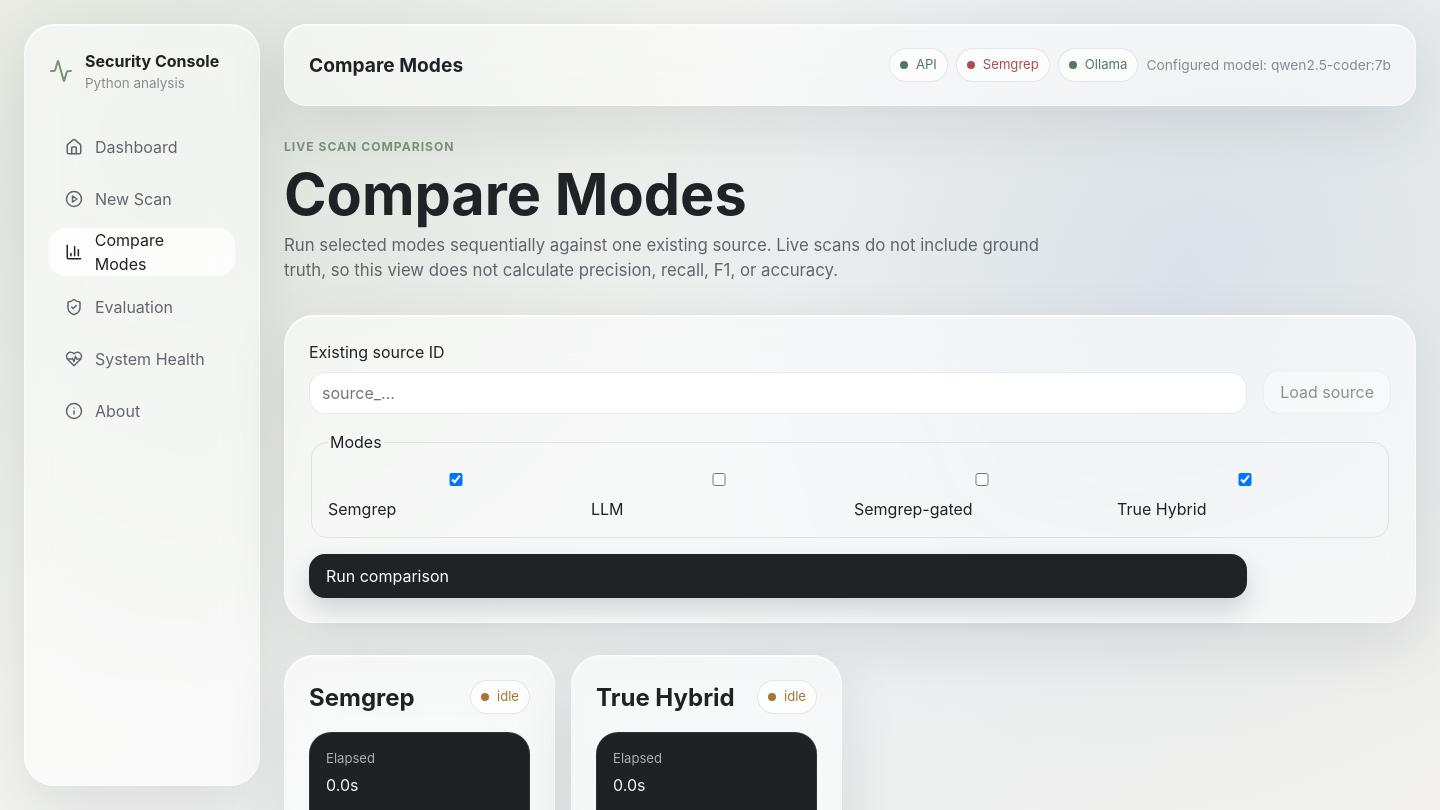
Test: Phase 4 pages › runs Compare Modes sequentially and renders completed results without live accuracy metrics
Type "src_compare" into the field labelled "Existing source ID".
click(778, 393); type("src_compare")  # box x1=309 y1=372 x2=1247 y2=414
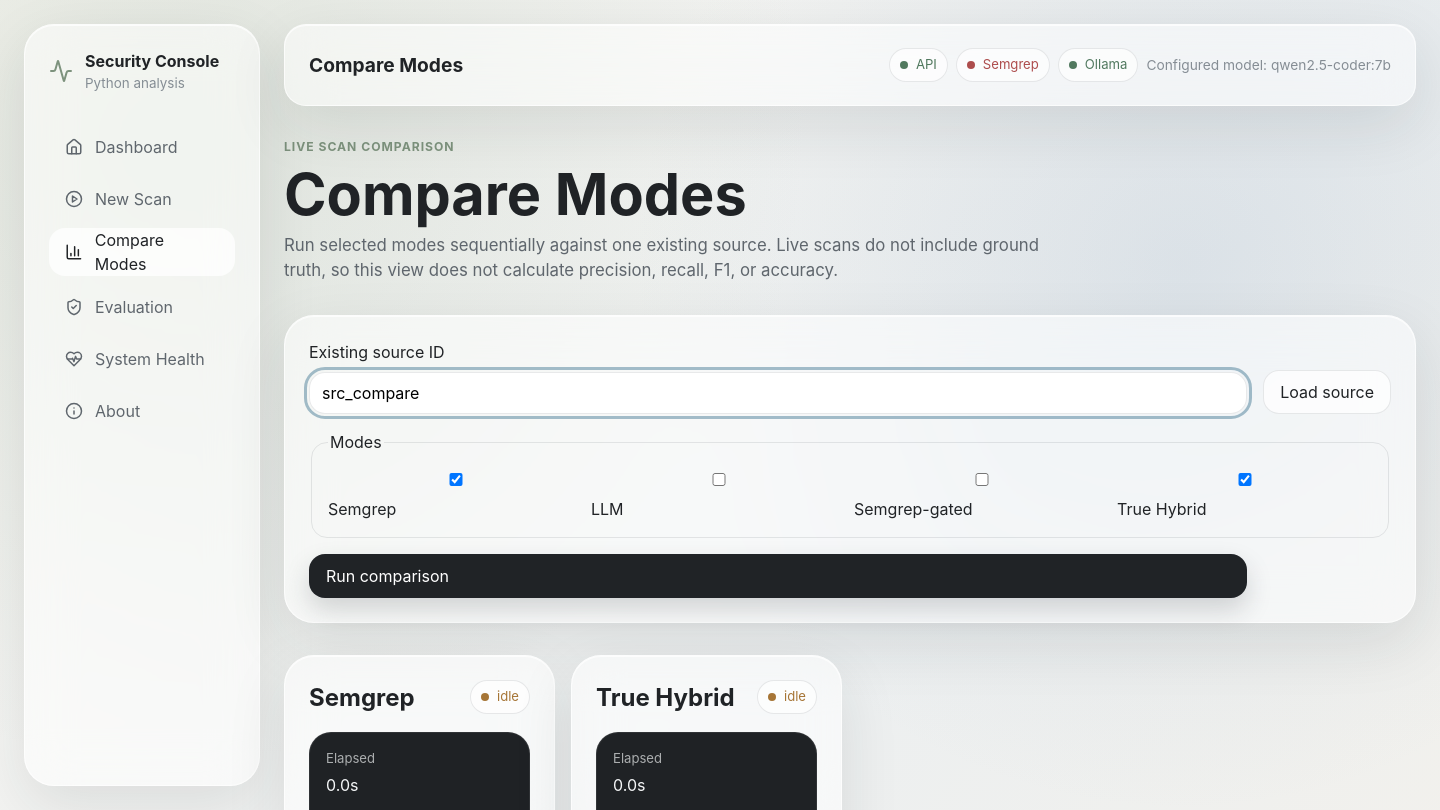
Click the button "Load source".
click(1327, 392)  # box x1=1263 y1=370 x2=1391 y2=414
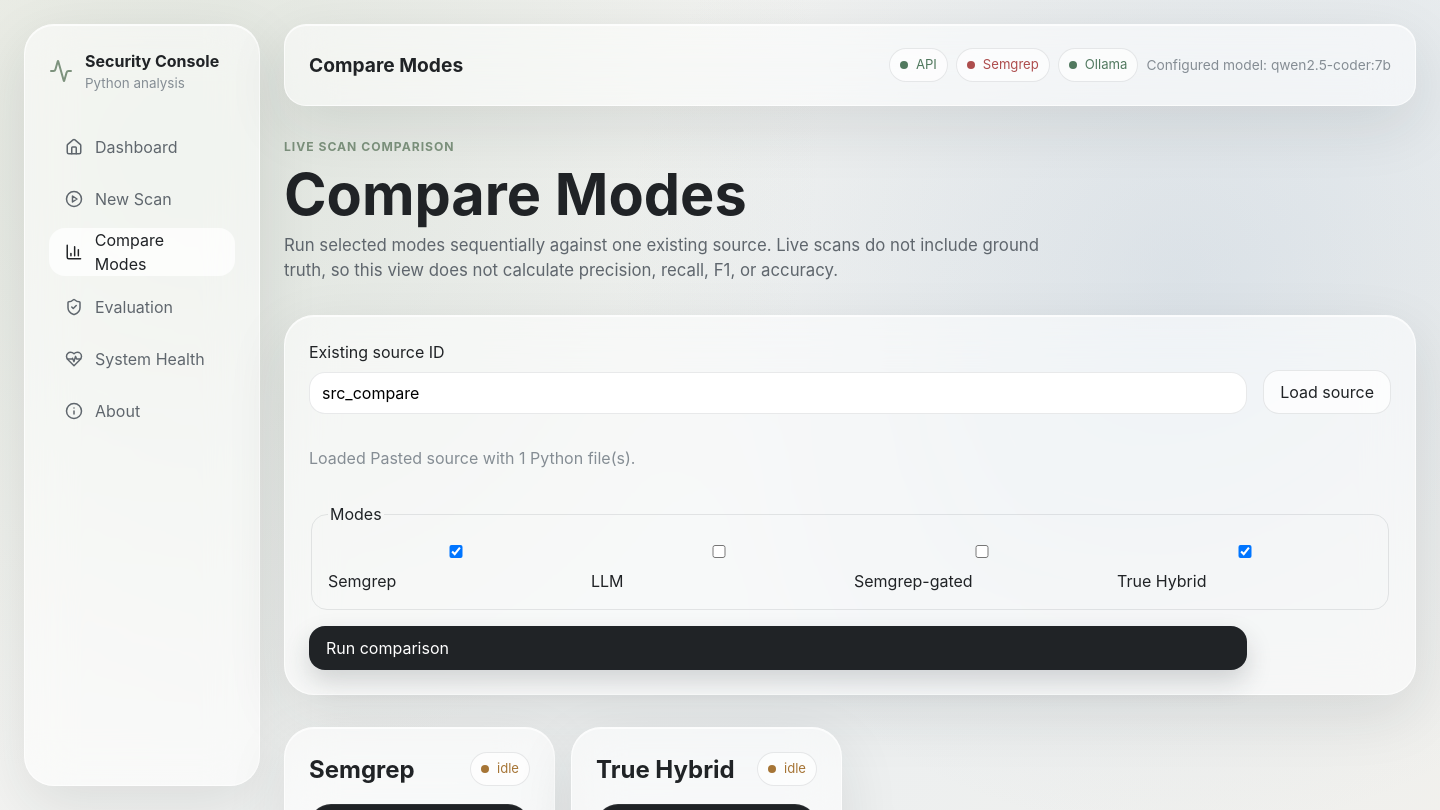
Now the text "Loaded Pasted source with 1 Python file(s)." is shown, box x1=309 y1=448 x2=635 y2=468
Click the button "Run comparison".
click(387, 648)  # box x1=309 y1=626 x2=1247 y2=670
(page scrolled)
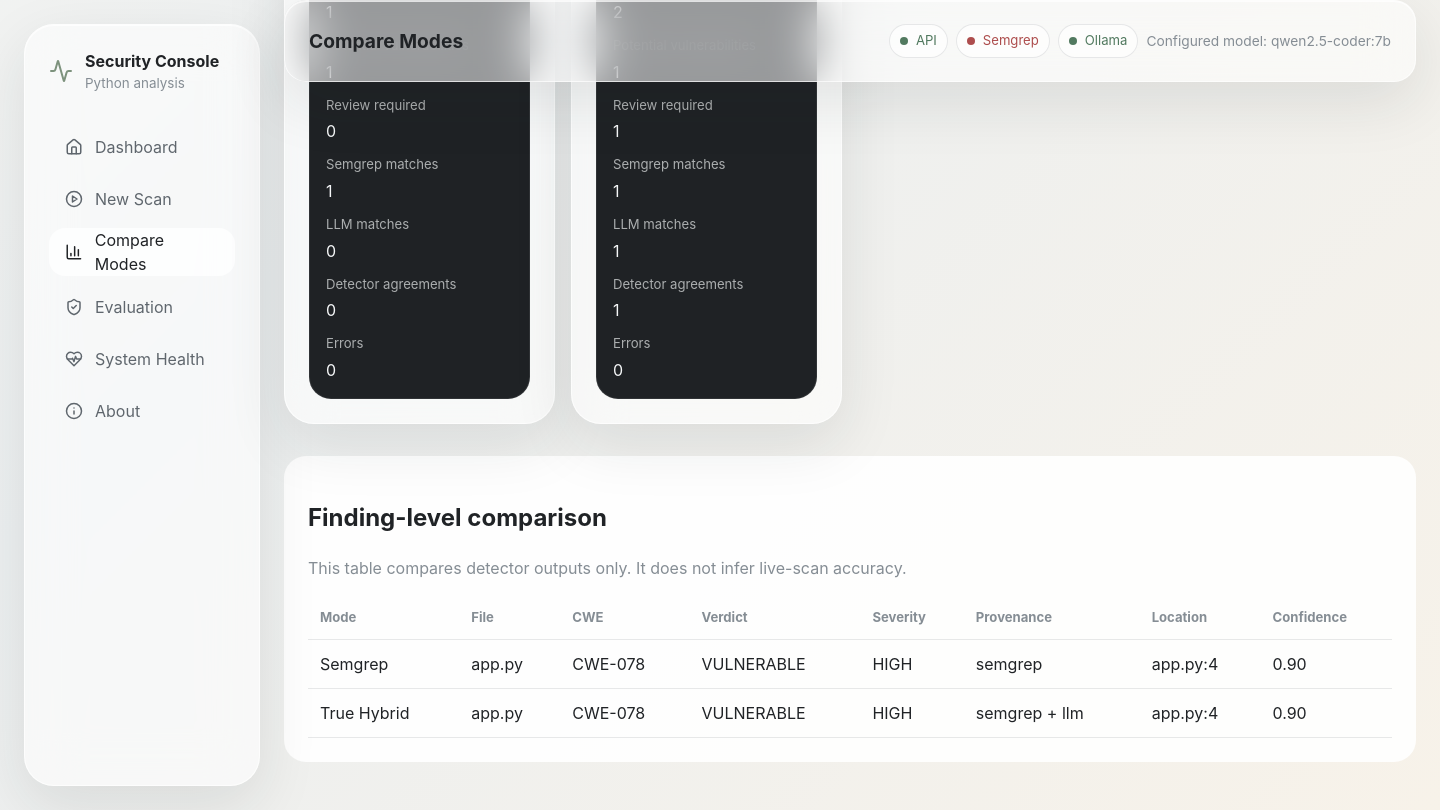
Now the 1st text "CWE-078" is shown, box x1=560 y1=640 x2=690 y2=689
